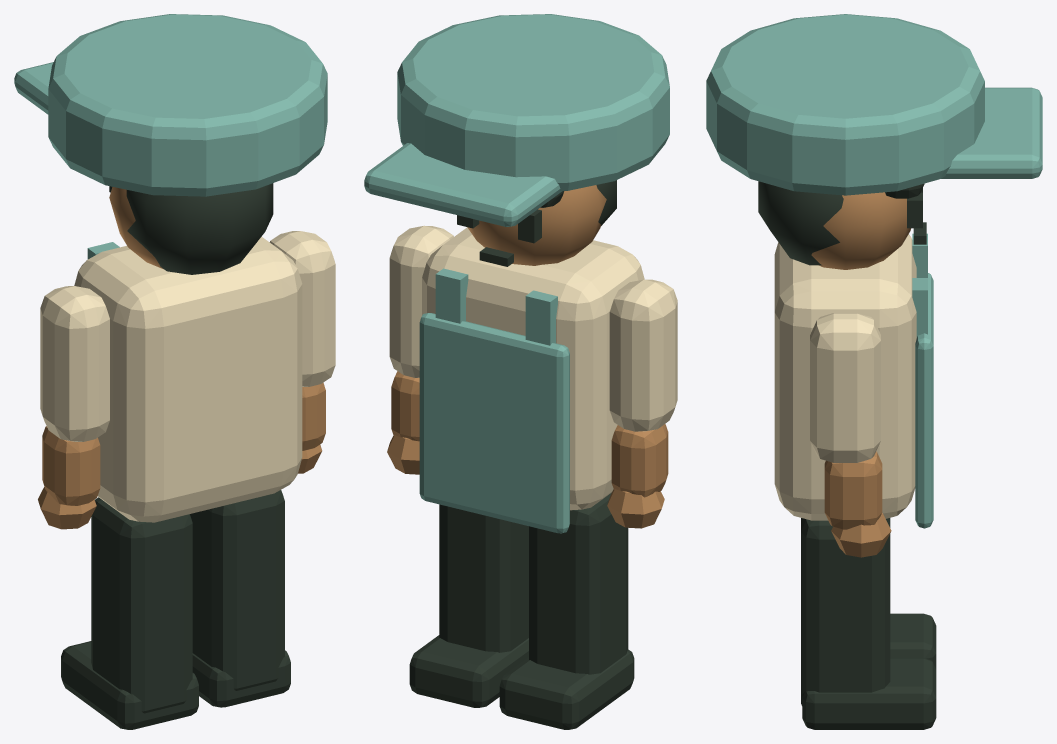
Rendered from SM_Worker.fbx.
3 renders of one model, left to right at view 1: azimuth 30°, elevation 25°; view 2: azimuth 150°, elevation 25°; view 3: azimuth 270°, elevation 25°, orthographic. The views are drawn at different scales.
Visible parts, largest first — view 1: Body, Hat, LegLeft, LegRight, ArmLeft, Head, ArmRight; view 2: Body, Hat, LegLeft, LegRight, ArmLeft, ArmRight, Head; view 3: Hat, Body, LegRight, ArmRight, Head, LegLeft.
Part boxes in pixels (x1,y1,x2,y2): Body: (74,236,302,522); Hat: (14,14,327,196); LegLeft: (61,497,198,729); LegRight: (190,490,290,707); ArmLeft: (38,286,109,529); Head: (109,183,273,274); ArmRight: (269,231,335,473); Body: (419,227,644,533); Hat: (364,14,669,226); LegLeft: (499,492,634,729); LegRight: (409,504,528,707); ArmLeft: (607,279,677,528); ArmRight: (387,225,453,474); Head: (457,180,616,266); Hat: (706,14,1042,195); Body: (774,233,933,528); LegRight: (801,518,936,729); ArmRight: (810,313,891,557); Head: (758,181,926,269); LegLeft: (890,613,936,669).
Bounding box in the file's own units: 0.605 × 1.32 × 0.64.
